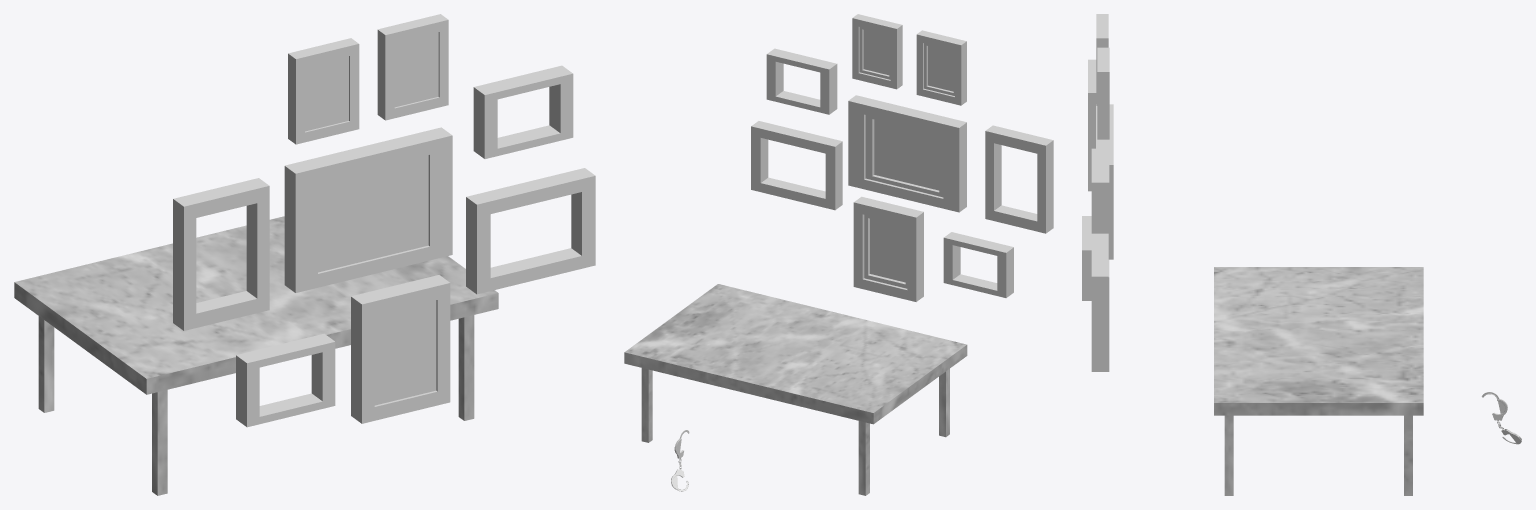
File: Onboarding_final_UVfix.fbx
3 views of the same model, side by side, from view 1: azimuth 30°, elevation 25°; view 2: azimuth 150°, elevation 25°; view 3: azimuth 270°, elevation 25° (orthographic). The views are drawn at different scales.
Parts seen in each view (by area): view 1: Cube.076, Cube.003; view 2: Cube.076, Cube.003; view 3: Cube.003, Cube.076.
Part boxes in pixels (left/top/right/bottom): Cube.076: left=173, top=14, right=595, bottom=427; Cube.003: left=14, top=216, right=498, bottom=495; Cube.076: left=751, top=14, right=1053, bottom=301; Cube.003: left=624, top=284, right=967, bottom=495; Cube.003: left=1214, top=267, right=1423, bottom=495; Cube.076: left=1082, top=14, right=1113, bottom=371.
Size of the model in its own units: 8367 by 9337 by 9721.
